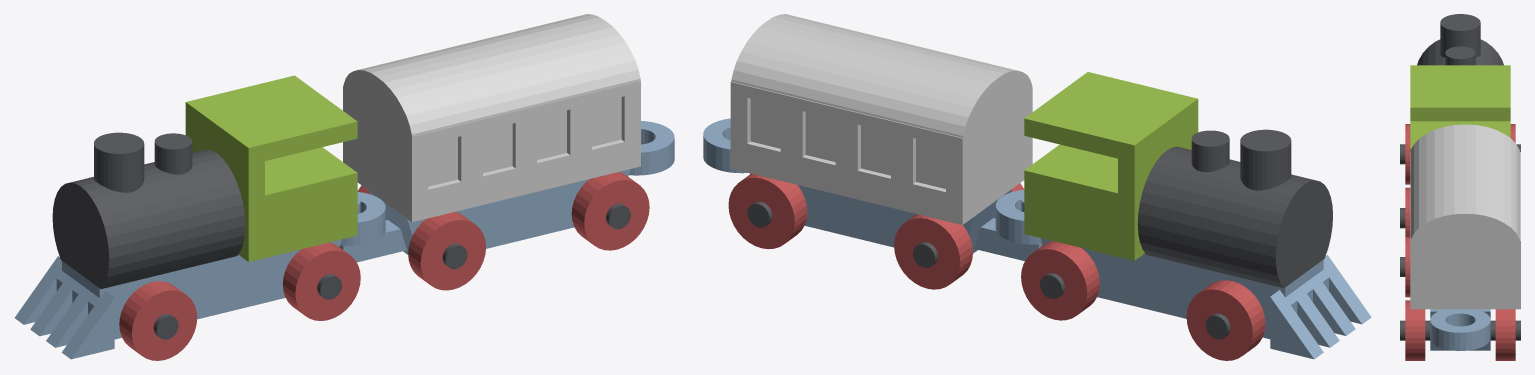
File: train_p150.glb
The picture shows the model from 3 angles, left to right: view 1: azimuth 30°, elevation 25°; view 2: azimuth 150°, elevation 25°; view 3: azimuth 270°, elevation 25°; orthographic projection. The views are drawn at different scales.
Visible parts, largest first — view 1: Mesh_Mesh_head_geo.001_lambert2SG.001; view 2: Mesh_Mesh_head_geo.001_lambert2SG.001; view 3: Mesh_Mesh_head_geo.001_lambert2SG.001.
Boxes of the visible parts, x1,y1,x2,y2 form: Mesh_Mesh_head_geo.001_lambert2SG.001: (14, 14, 674, 360); Mesh_Mesh_head_geo.001_lambert2SG.001: (703, 14, 1371, 360); Mesh_Mesh_head_geo.001_lambert2SG.001: (1400, 14, 1520, 360).
Size of the model in its own units: 115 by 34.03 by 24.
